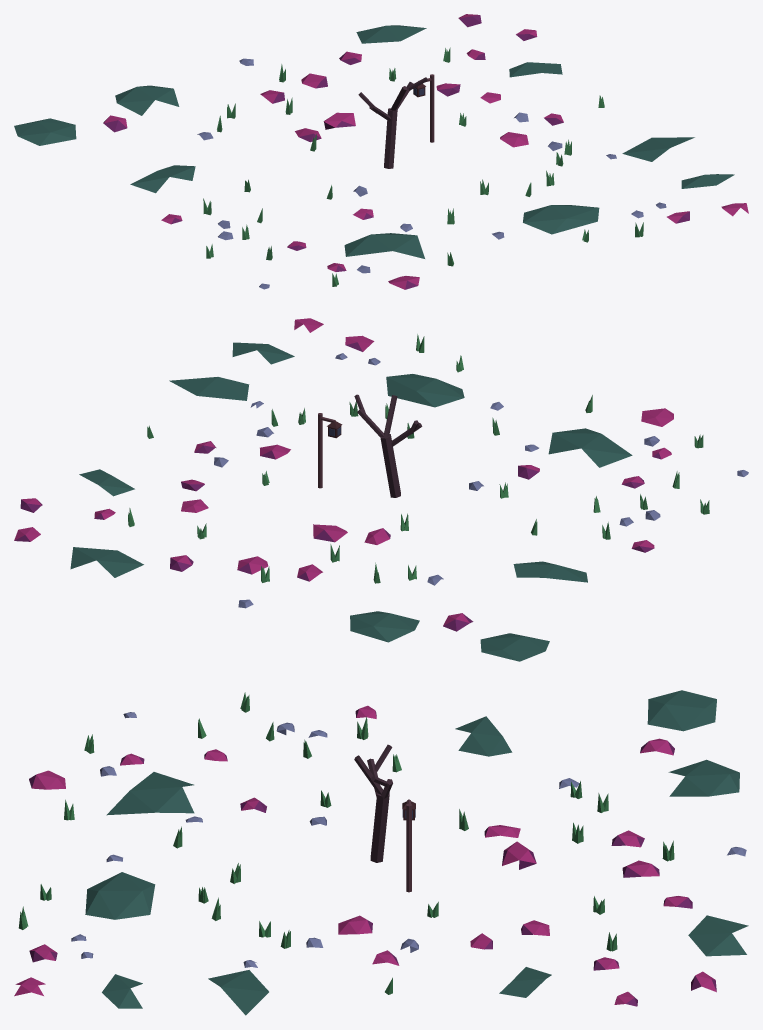
The model's file is decor1.glb.
3 views of the same model, one above another, from view 1: azimuth 30°, elevation 25°; view 2: azimuth 150°, elevation 25°; view 3: azimuth 270°, elevation 25° (orthographic). The views are drawn at different scales.
Parts seen in each view (by area): view 1: Trunk; view 2: Trunk; view 3: Trunk.
Part boxes in pixels (x1,y1,x2,y2): Trunk: (14, 14, 748, 289); Trunk: (14, 318, 748, 661); Trunk: (14, 690, 748, 1015).
Bounding box in the file's own units: 11.85 × 1.88 × 11.41.
